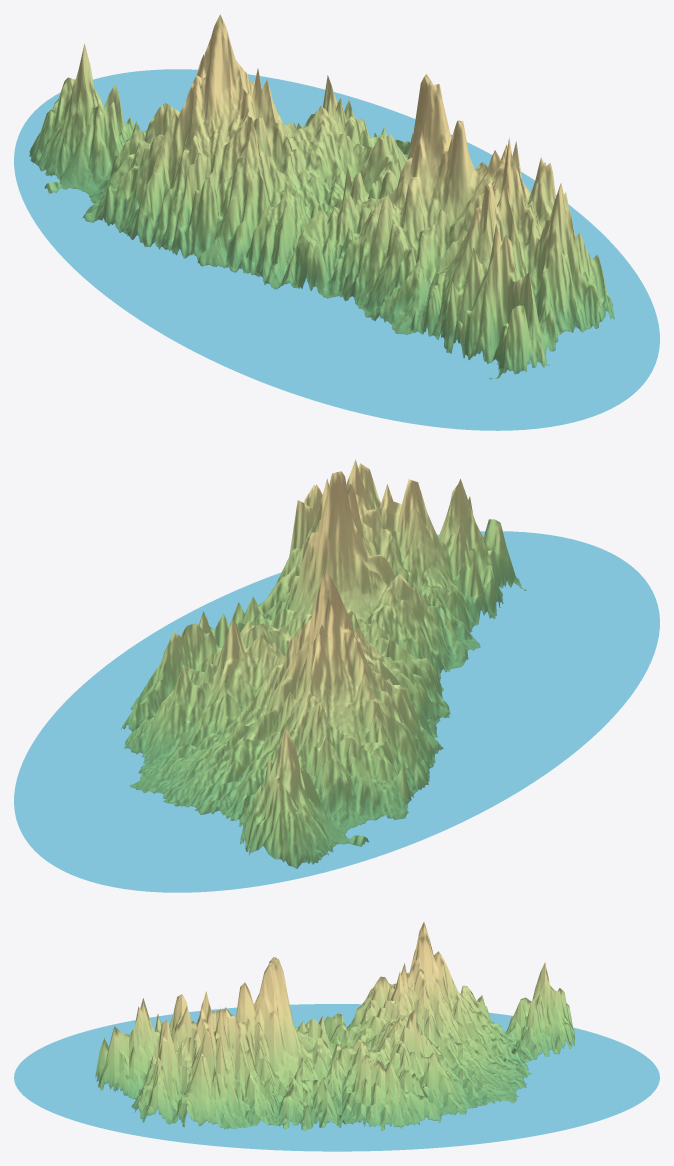
File: DMA-terrain.glb
3 renders of one model, top to bottom at view 1: azimuth 30°, elevation 25°; view 2: azimuth 150°, elevation 25°; view 3: azimuth 270°, elevation 25°, orthographic. The views are drawn at different scales.
Parts seen in each view (by area): view 1: Relevo com hidrografia; view 2: Relevo com hidrografia; view 3: Relevo com hidrografia.
Boxes of the visible parts, bbox=[...] form: Relevo com hidrografia: bbox=[14, 14, 659, 430]; Relevo com hidrografia: bbox=[14, 459, 659, 892]; Relevo com hidrografia: bbox=[14, 922, 659, 1151].
Size of the model in its own units: 1.17 by 0.5126 by 2.17.
Materials: 2 (1 with a texture image).
